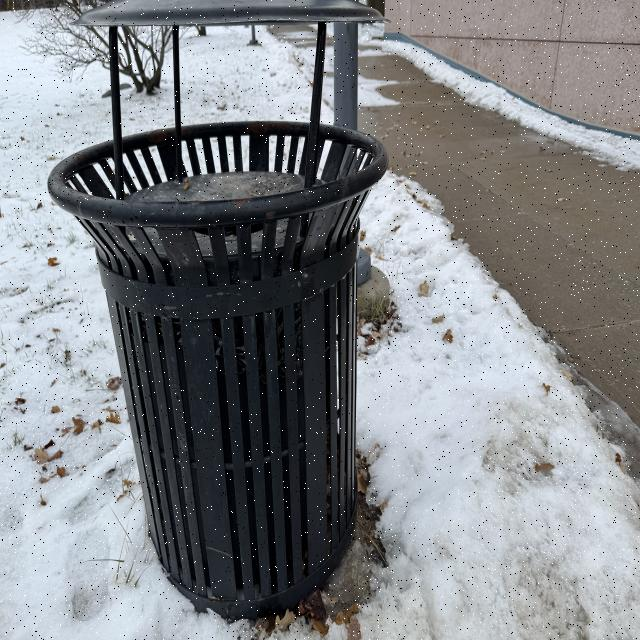Dustbin: (45, 0, 388, 617)
